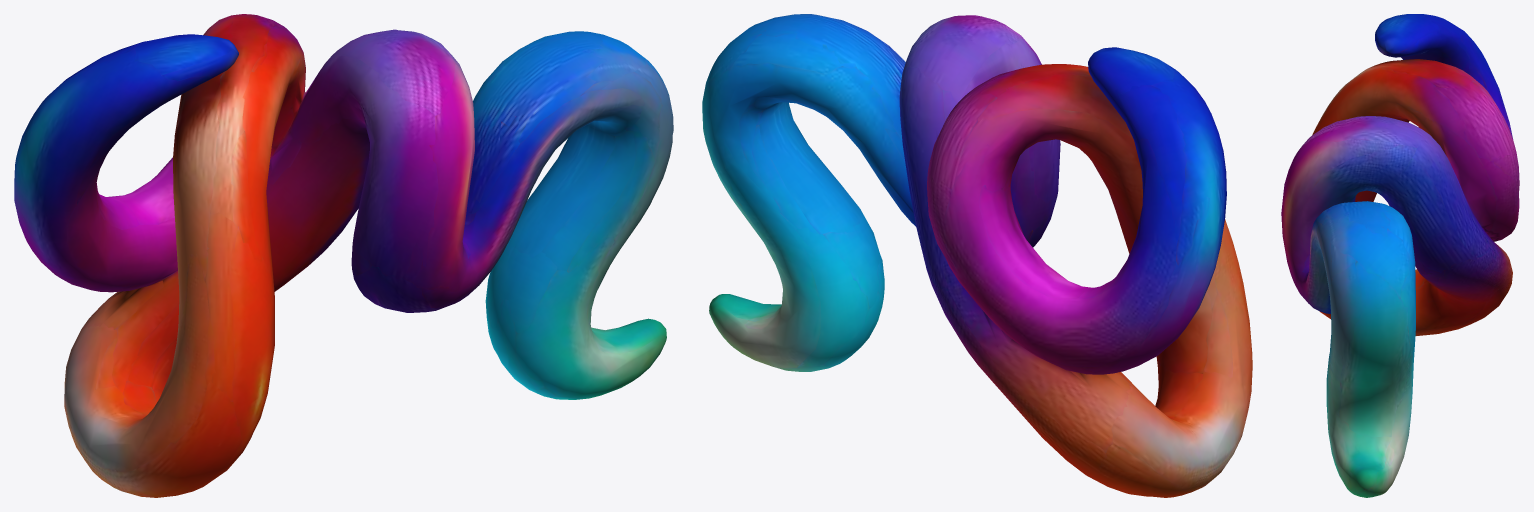
3 renders of one model, left to right at view 1: azimuth 30°, elevation 25°; view 2: azimuth 150°, elevation 25°; view 3: azimuth 270°, elevation 25°, orthographic. The views are drawn at different scales.
Parts seen in each view (by area): view 1: node_0; view 2: node_0; view 3: node_0.
Part boxes in pixels (<box>): node_0: <box>14,14,673,497</box>; node_0: <box>702,14,1252,497</box>; node_0: <box>1281,14,1519,497</box>.
Size of the model in its own units: 1.03 by 0.7321 by 0.4847.
1 material, 1 textured.
